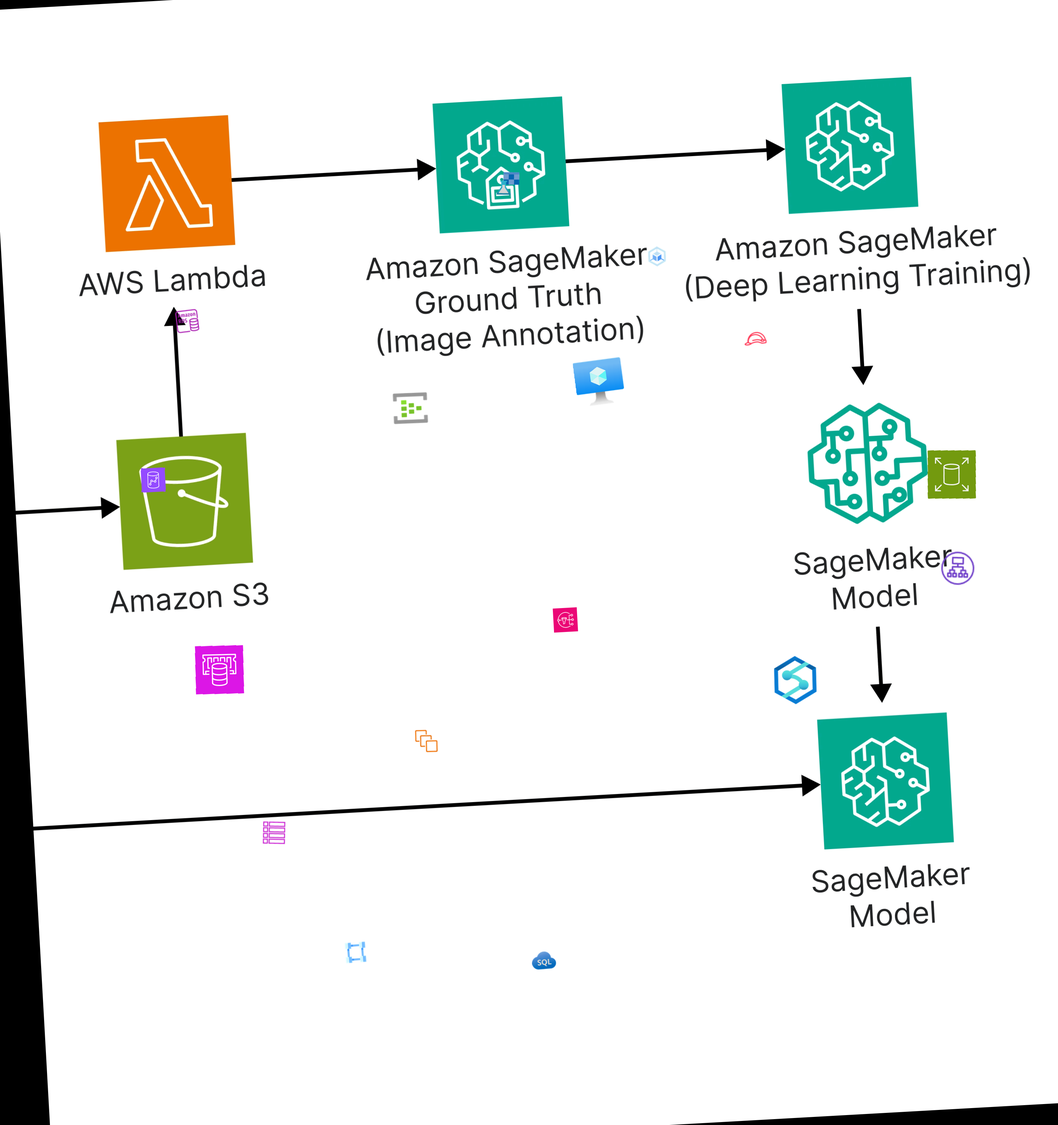aws_amazon_elastic_block_store: (925, 448, 979, 501)
aws_amazon_elasticache: (193, 643, 246, 696)
aws_amazon_redshift: (140, 467, 166, 493)
aws_amazon_simple_notification_service: (552, 607, 578, 633)
aws_aurora_amazon_rds_instance: (173, 307, 201, 335)
aws_dynamodb_table: (260, 819, 288, 847)
aws_ec2_instances: (413, 727, 440, 754)
aws_elastic_load_balancing_application_load_balancer: (937, 547, 978, 589)
aws_identity_access_management_role: (742, 326, 768, 352)
azure_event_hubs: (391, 388, 429, 427)
azure_machine_learning_studio_workspaces: (494, 169, 522, 197)
azure_sql: (530, 948, 557, 974)
azure_synapse_analytics: (769, 653, 822, 707)
azure_virtual_machine: (572, 356, 627, 411)
gcp_google_kubernetes_engine: (644, 243, 670, 269)
gcp_virtual_private_cloud: (342, 939, 368, 965)
